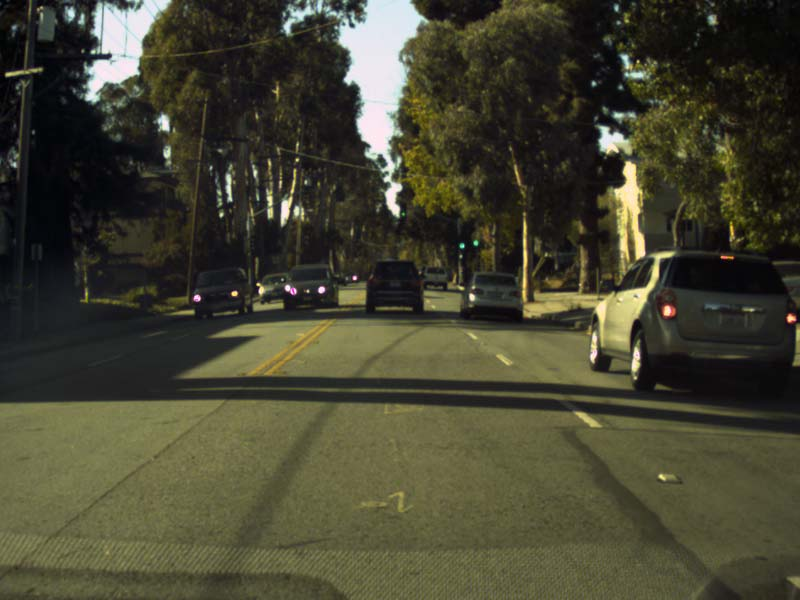Green: (470, 224, 480, 247), (457, 229, 466, 250), (400, 202, 406, 219)
